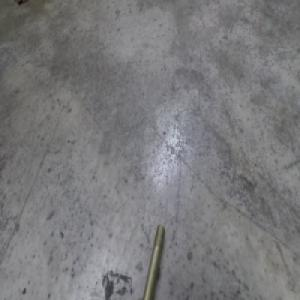Bolt: (142, 227, 164, 300)
